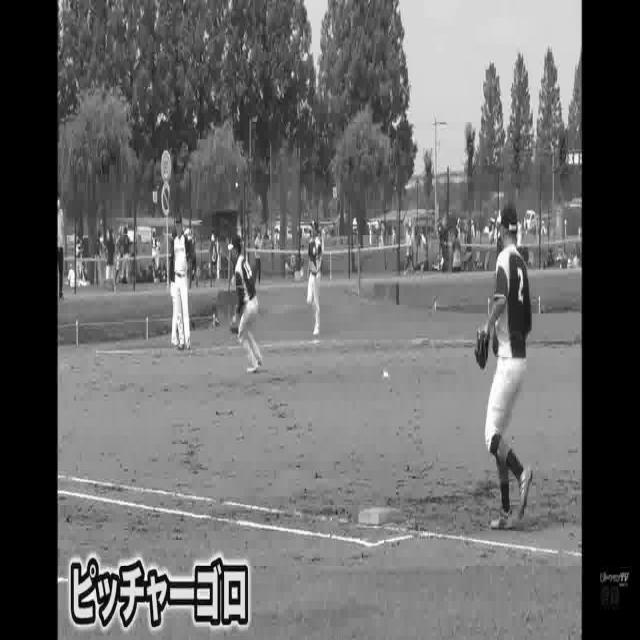baseball_glove: (472, 316, 493, 370), (229, 314, 243, 336)
shoe: (518, 464, 534, 514), (359, 508, 403, 526), (488, 511, 514, 534), (246, 360, 264, 378)
